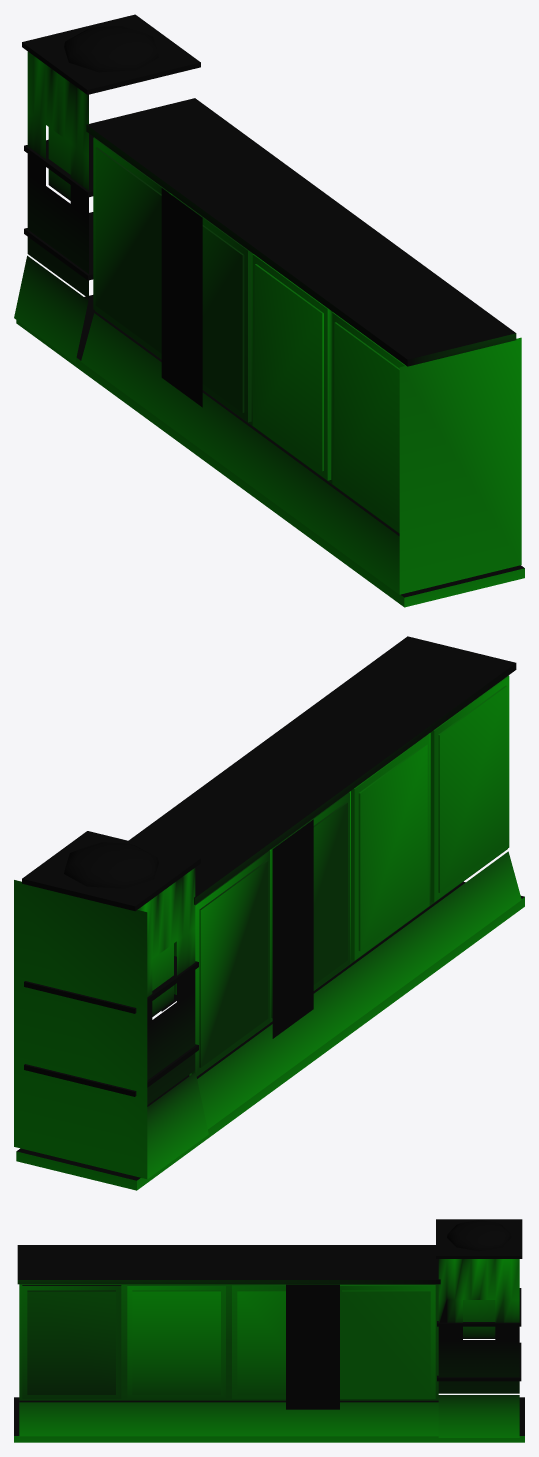
File: s_mediumwall.glb
3 views of the same model, one above another, from view 1: azimuth 30°, elevation 25°; view 2: azimuth 150°, elevation 25°; view 3: azimuth 270°, elevation 25° (orthographic). The views are drawn at different scales.
Visible parts, largest first — view 1: lod0; view 2: lod0; view 3: lod0.
Boxes of the visible parts, bbox=[...] form: lod0: bbox=[14, 14, 524, 607]; lod0: bbox=[14, 636, 524, 1190]; lod0: bbox=[14, 1219, 524, 1442].
Size of what is drawn, in the model's own units: 5.65 by 12.1 by 28.45.
